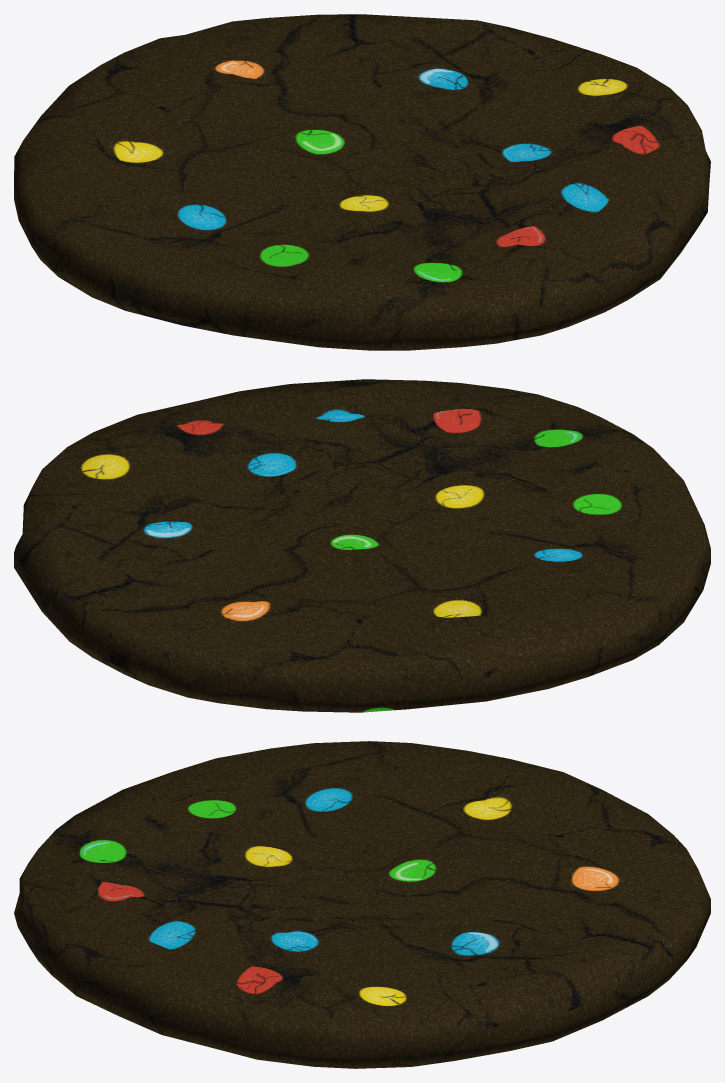
The model's file is MultiColoredCOokie.fbx.
The picture shows the model from 3 angles, top to bottom: view 1: azimuth 30°, elevation 25°; view 2: azimuth 150°, elevation 25°; view 3: azimuth 270°, elevation 25°; orthographic projection. The views are drawn at different scales.
Visible parts, largest first — view 1: polySurface6; view 2: polySurface6; view 3: polySurface6.
Boxes of the visible parts, x1=… form: polySurface6: x1=14, y1=14, x2=710, y2=350; polySurface6: x1=14, y1=379, x2=710, y2=712; polySurface6: x1=14, y1=741, x2=710, y2=1068.
Size of the model in its own units: 1.29 by 0.1291 by 1.31.
